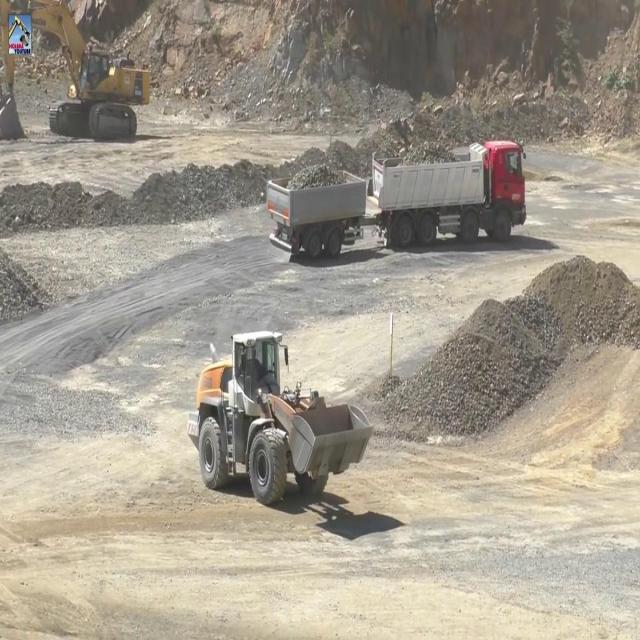Dump Truck: (264, 136, 528, 261)
Excavator: (1, 0, 150, 141)
Loader: (187, 327, 375, 507)
